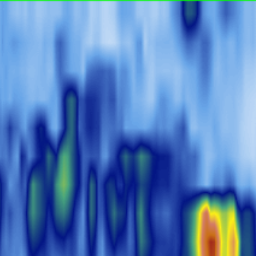defect: (183, 186, 253, 256), (49, 78, 75, 248), (20, 140, 46, 242), (133, 145, 153, 256), (83, 155, 99, 256), (101, 172, 120, 255), (178, 1, 204, 47), (117, 138, 131, 176)
